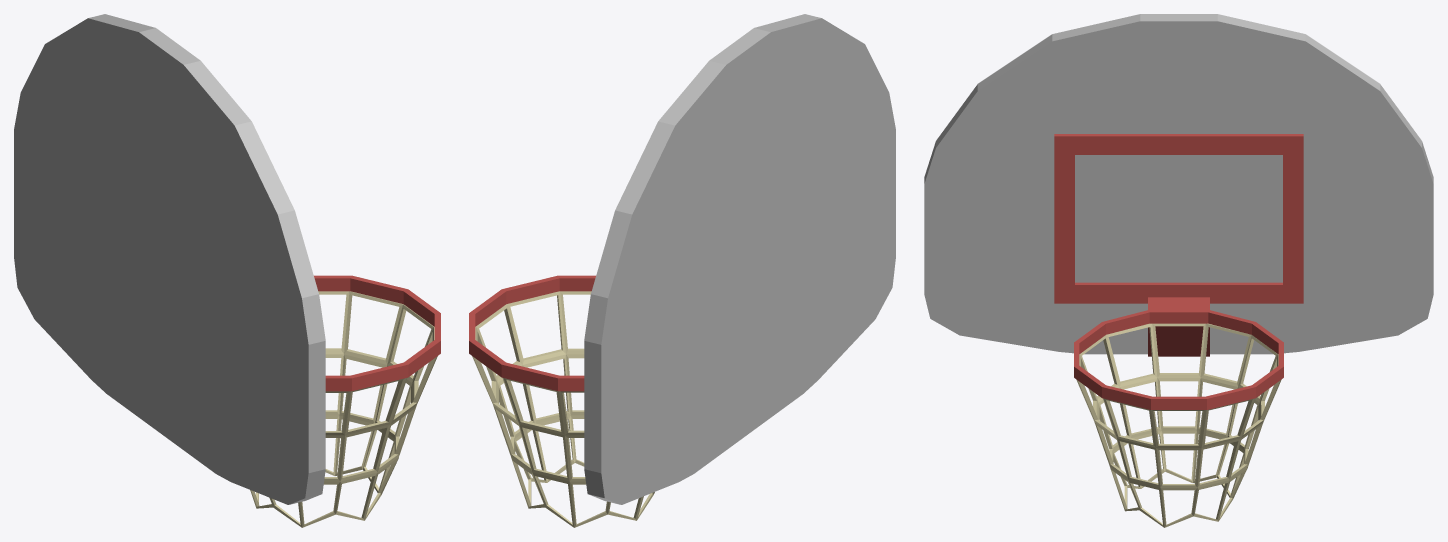
Rendered from Hoop.fbx.
3 views of the same model, side by side, from view 1: azimuth 30°, elevation 25°; view 2: azimuth 150°, elevation 25°; view 3: azimuth 270°, elevation 25° (orthographic). The views are drawn at different scales.
Visible parts, largest first — view 1: Basketball Terrain.001; view 2: Basketball Terrain.001; view 3: Basketball Terrain.001.
Part boxes in pixels (box(x1,y1,x2,y2)): Basketball Terrain.001: box(14, 14, 440, 527); Basketball Terrain.001: box(469, 14, 895, 527); Basketball Terrain.001: box(924, 14, 1433, 527).
Size of the model in its own units: 0.941 by 1.68 by 1.82.
